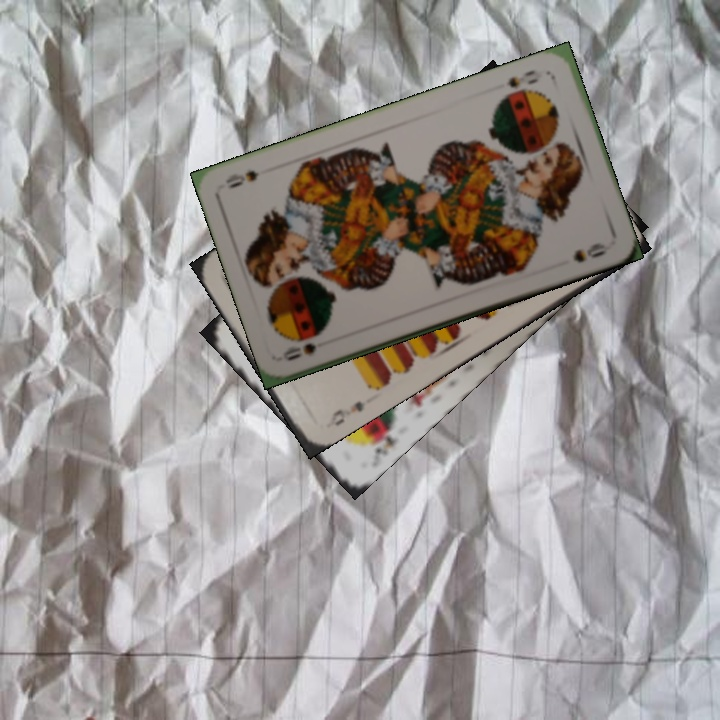E9: (321, 397, 367, 431)
SK: (368, 430, 400, 465)
SO: (279, 339, 319, 364), (502, 66, 541, 91)
